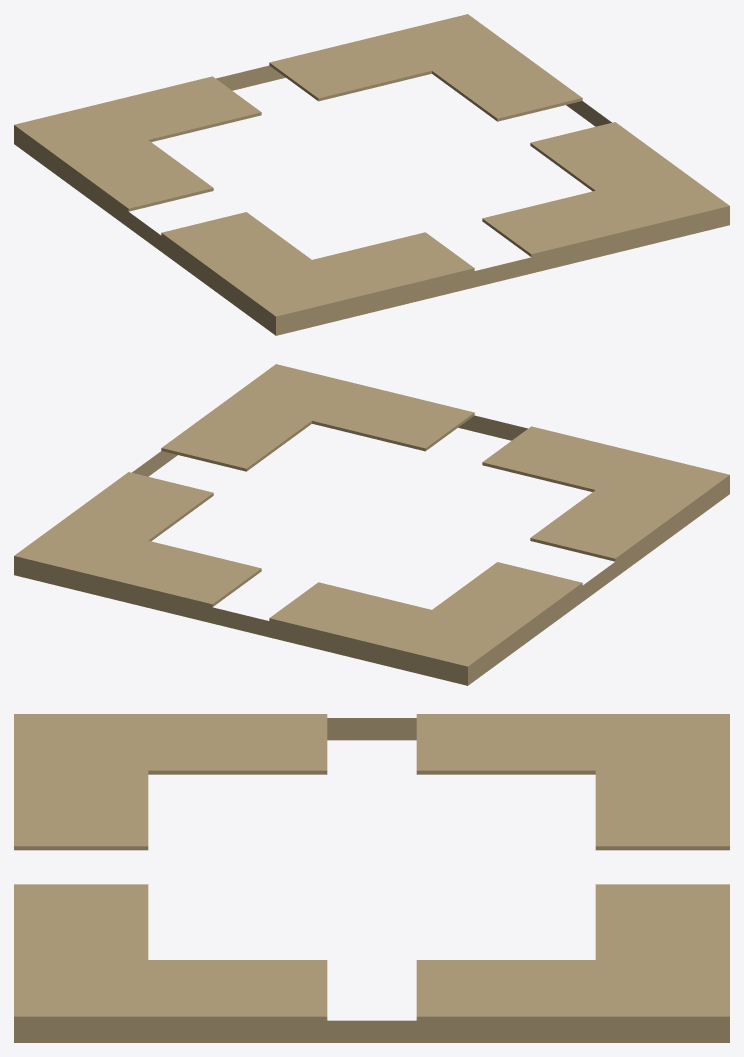
The model's file is Field_Upper.fbx.
The picture shows the model from 3 angles, top to bottom: view 1: azimuth 30°, elevation 25°; view 2: azimuth 150°, elevation 25°; view 3: azimuth 270°, elevation 25°; orthographic projection. The views are drawn at different scales.
Parts seen in each view (by area): view 1: Object7865; view 2: Object7865; view 3: Object7865.
Part boxes in pixels (x1,y1,x2,y2): Object7865: (14, 14, 729, 335); Object7865: (14, 364, 729, 685); Object7865: (14, 714, 729, 1042).
Size of the model in its own units: 873 by 35.46 by 873.
